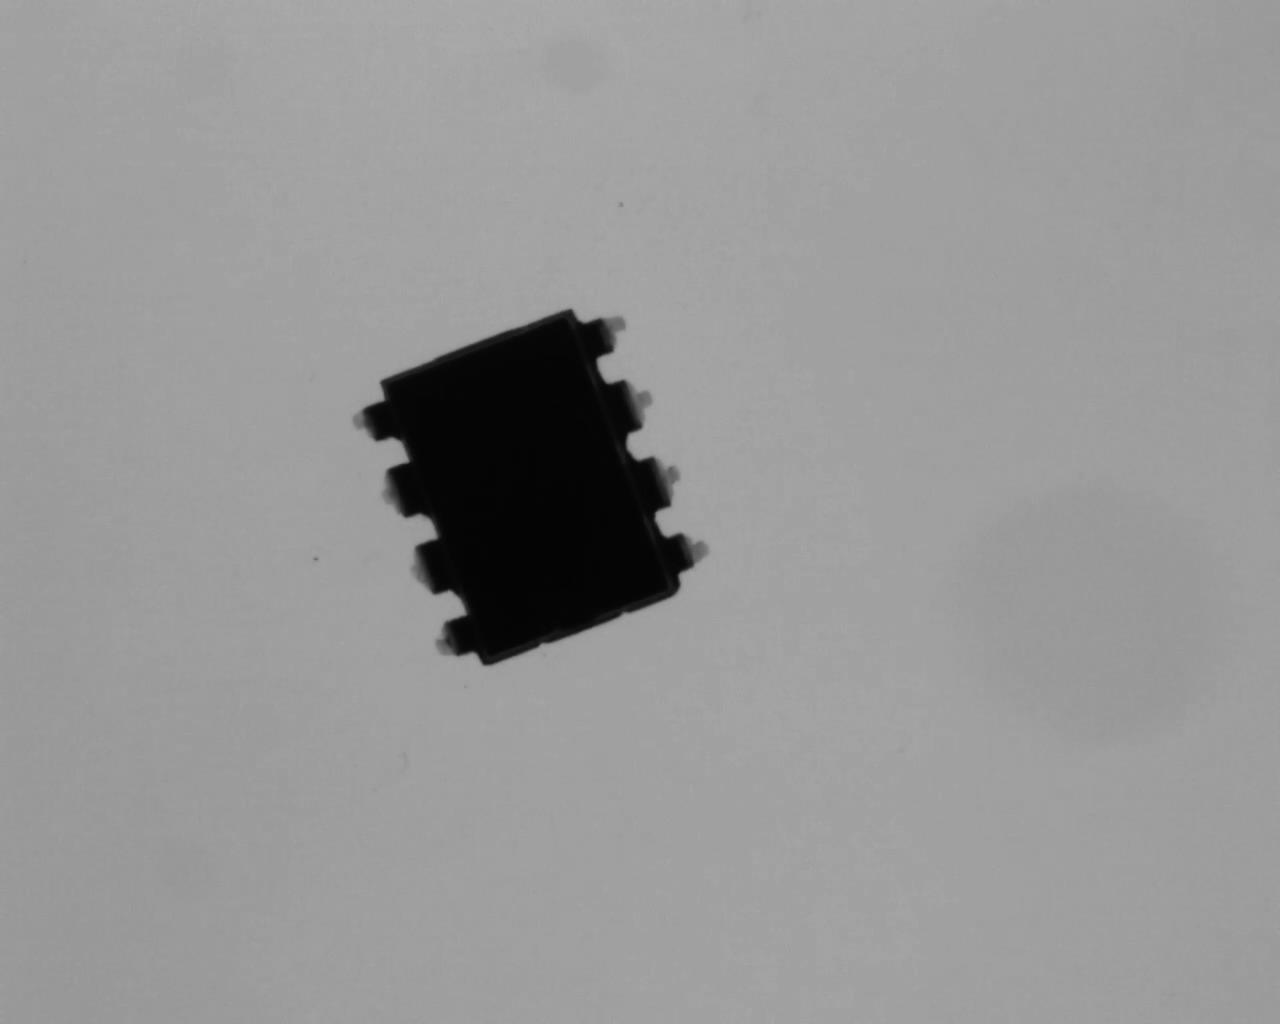Leg: (369, 459, 435, 522), (601, 376, 664, 440), (402, 536, 461, 602), (629, 451, 684, 511), (345, 396, 408, 448), (581, 307, 636, 366), (426, 611, 482, 665), (664, 527, 711, 579)
